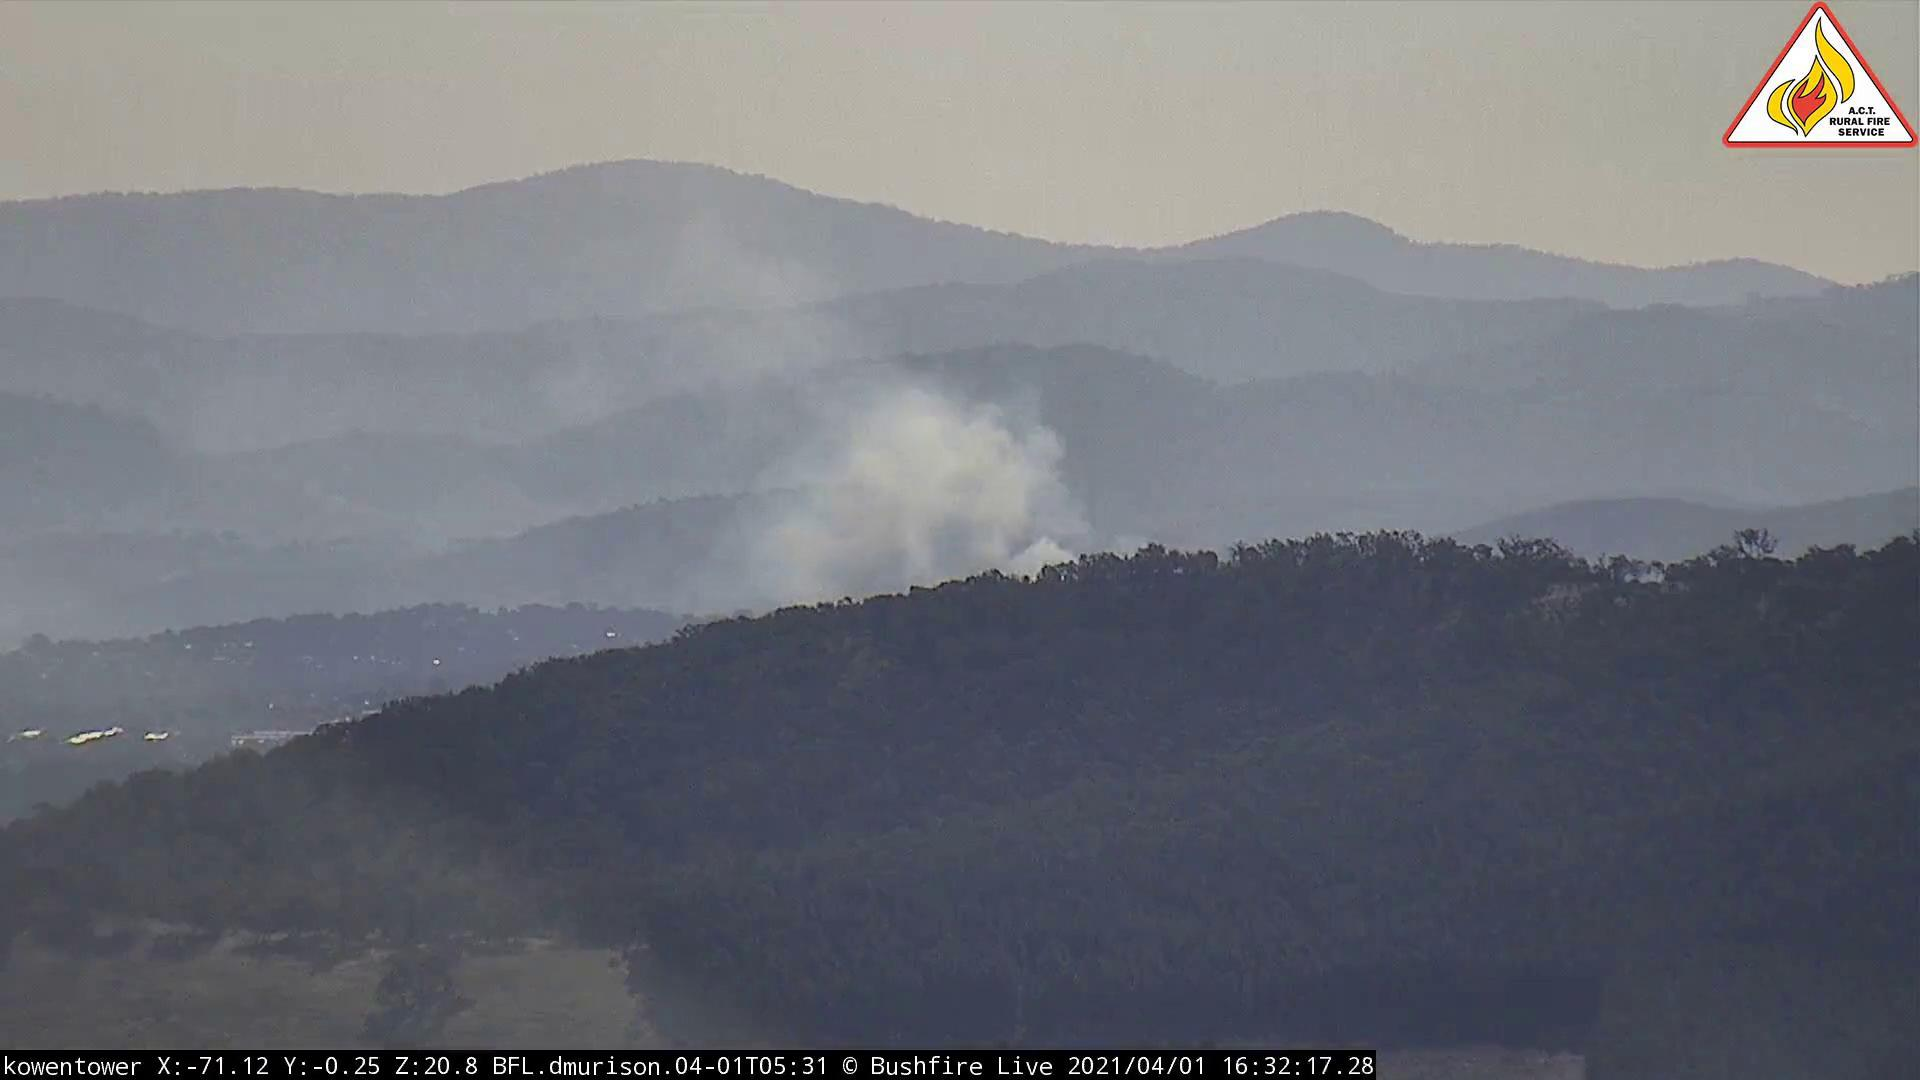Smoke: (601, 324, 1125, 649)
